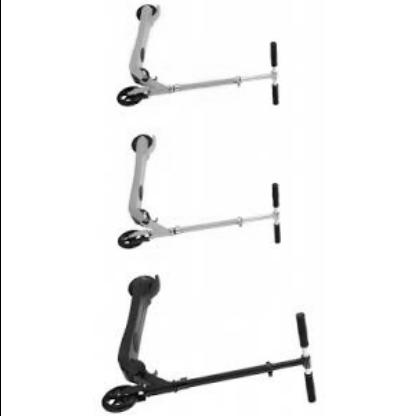bike: (101, 275, 317, 414)
